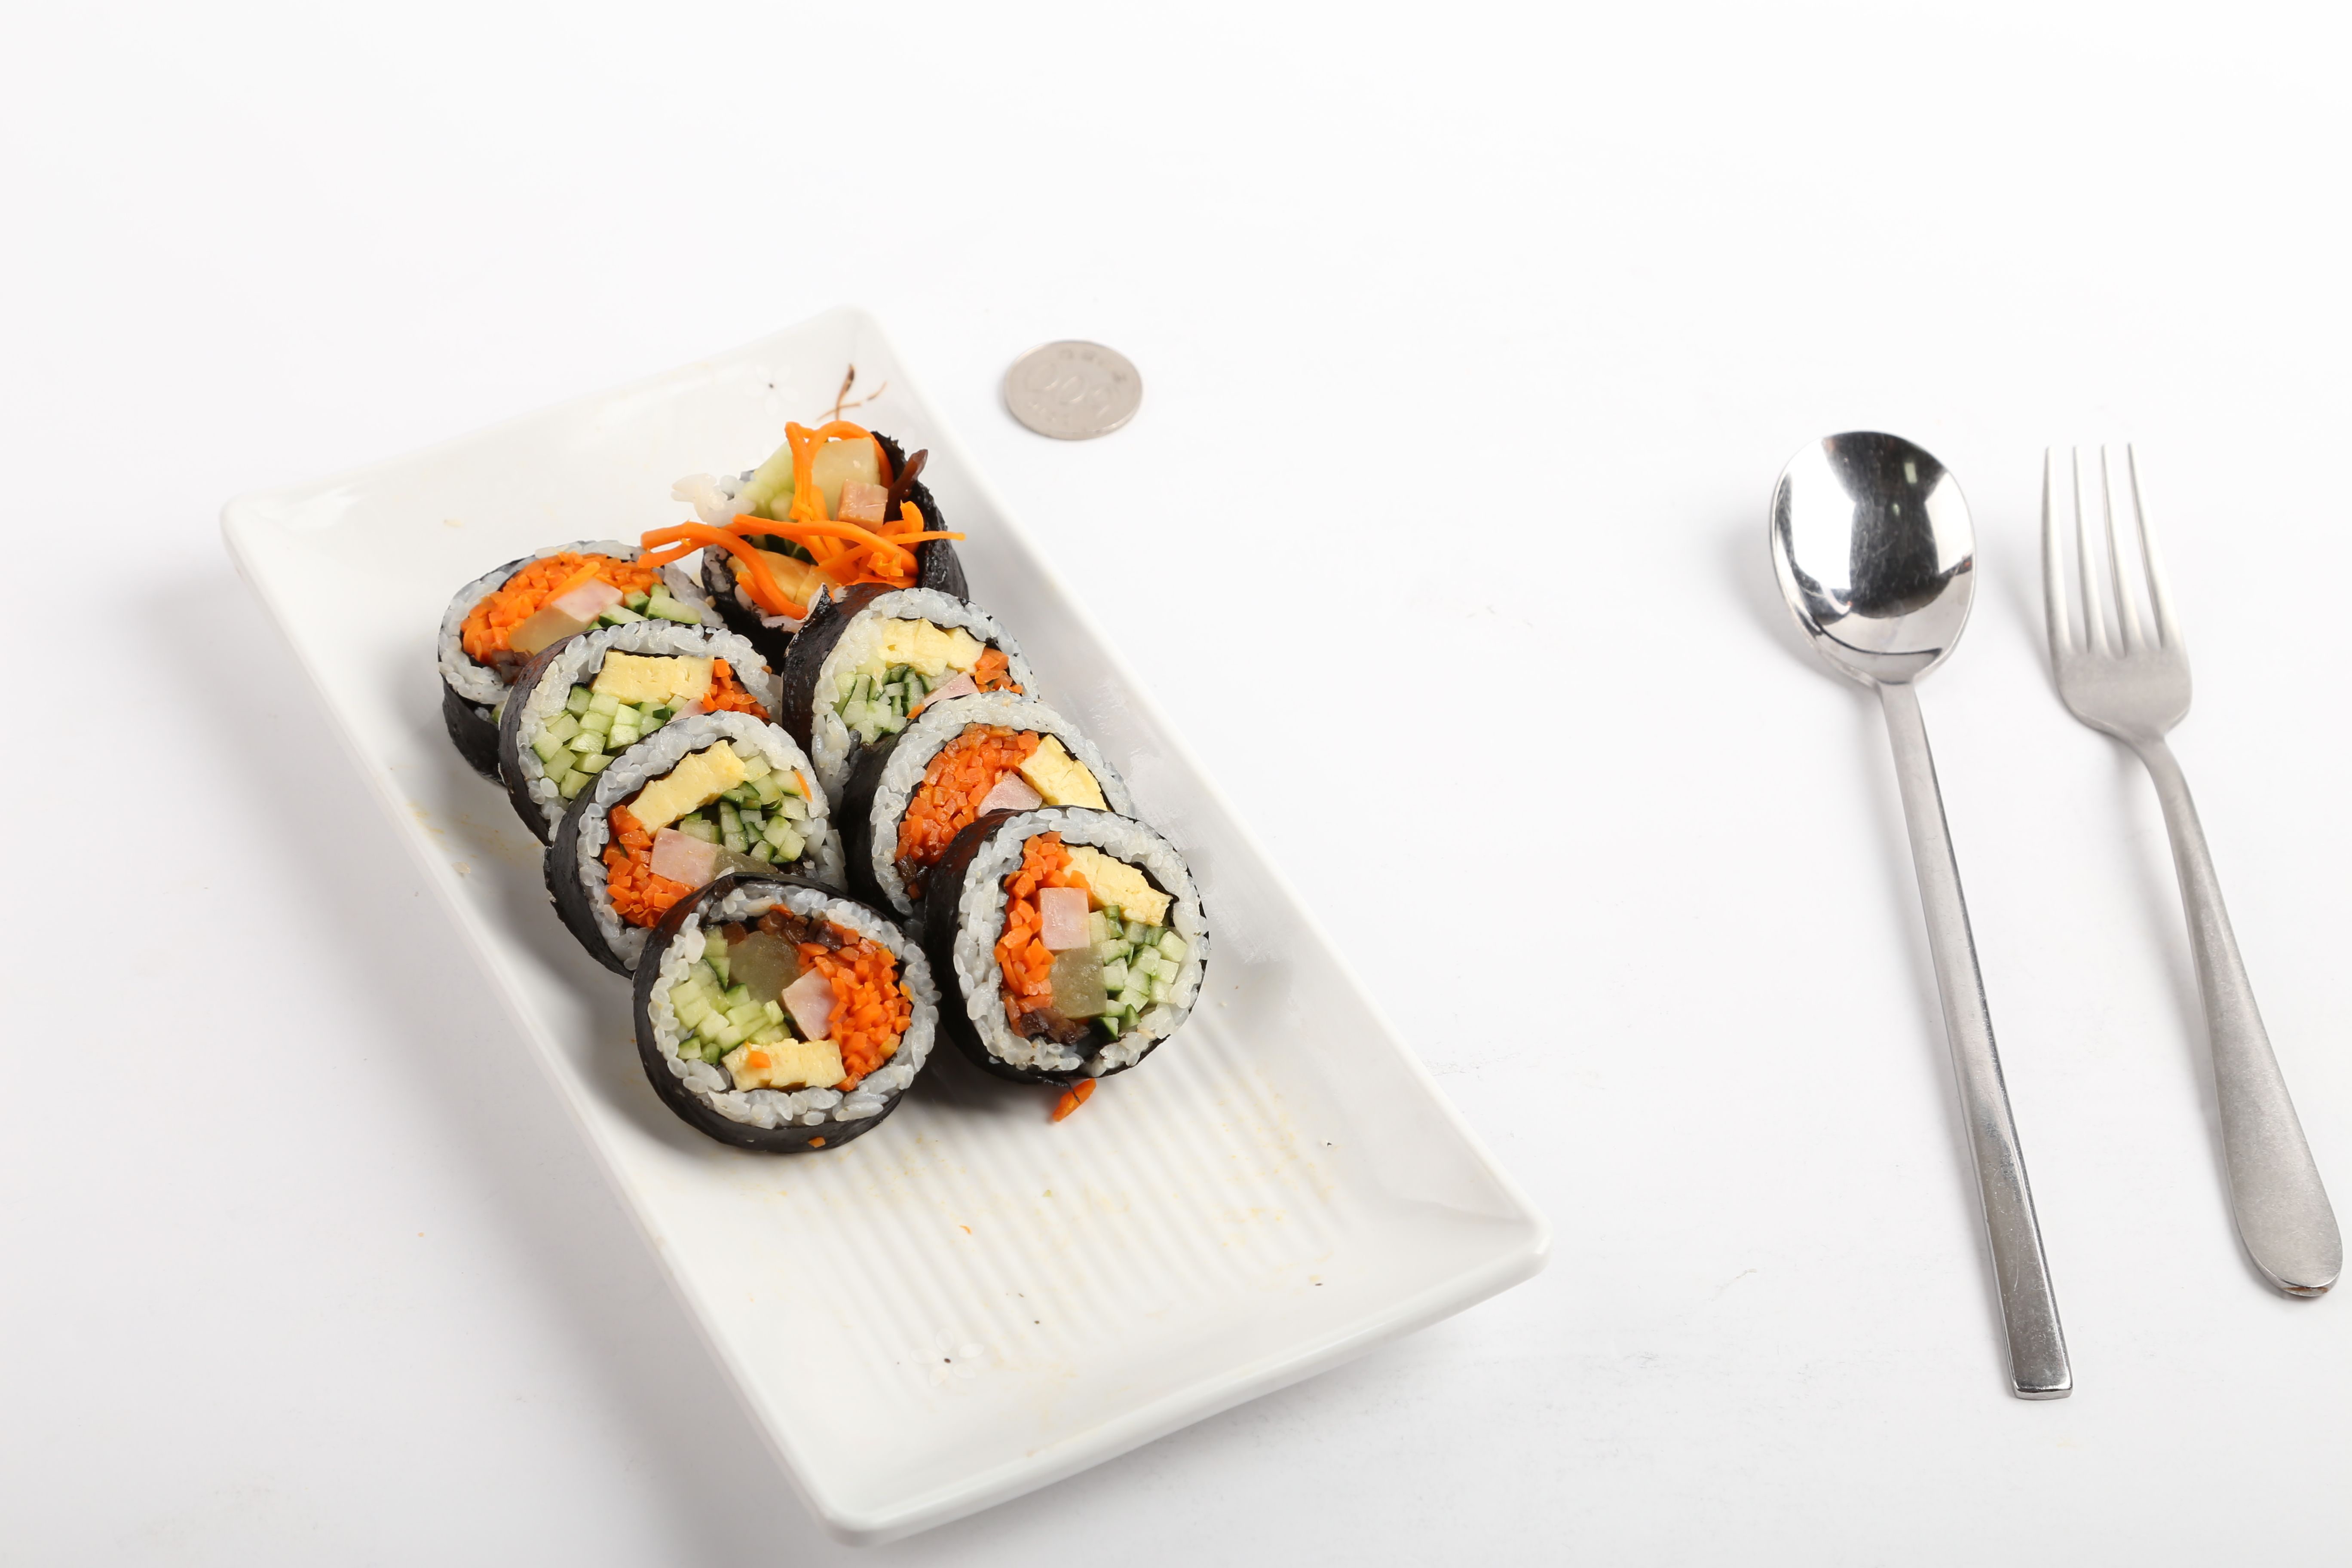dish: (210, 292, 1554, 1543)
ref_coin: (990, 327, 1148, 444)
ref_fork: (2033, 434, 2196, 815)
ref_spoon: (1764, 425, 1977, 735)
김밥: (430, 408, 1214, 1160)
